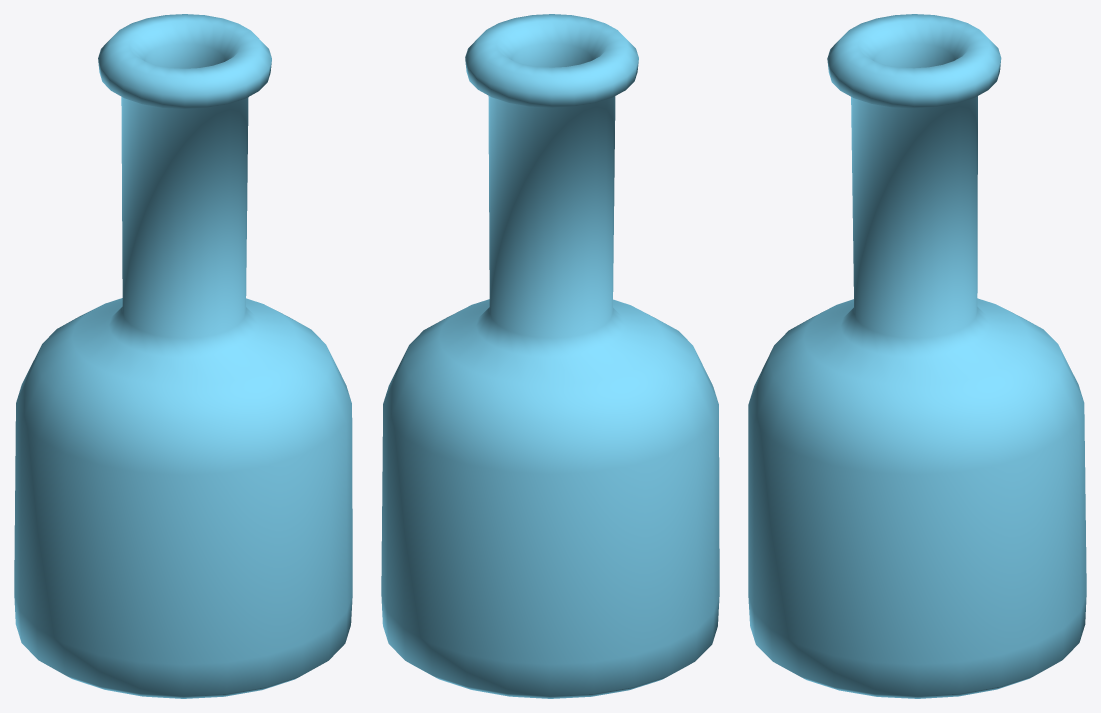
File: Flask, Cylindrical, Long Neck.fbx
3 views of the same model, side by side, from view 1: azimuth 30°, elevation 25°; view 2: azimuth 150°, elevation 25°; view 3: azimuth 270°, elevation 25° (orthographic).
Parts seen in each view (by area): view 1: Flask, Cylindrical, Long Neck_LOD0; view 2: Flask, Cylindrical, Long Neck_LOD0; view 3: Flask, Cylindrical, Long Neck_LOD0.
Part boxes in pixels (left/top/right/bottom): Flask, Cylindrical, Long Neck_LOD0: left=14, top=14, right=352, bottom=698; Flask, Cylindrical, Long Neck_LOD0: left=381, top=14, right=719, bottom=698; Flask, Cylindrical, Long Neck_LOD0: left=748, top=14, right=1086, bottom=698.
Size of what is drawn, in the model's own units: 0.4261 by 0.8185 by 0.4261.
